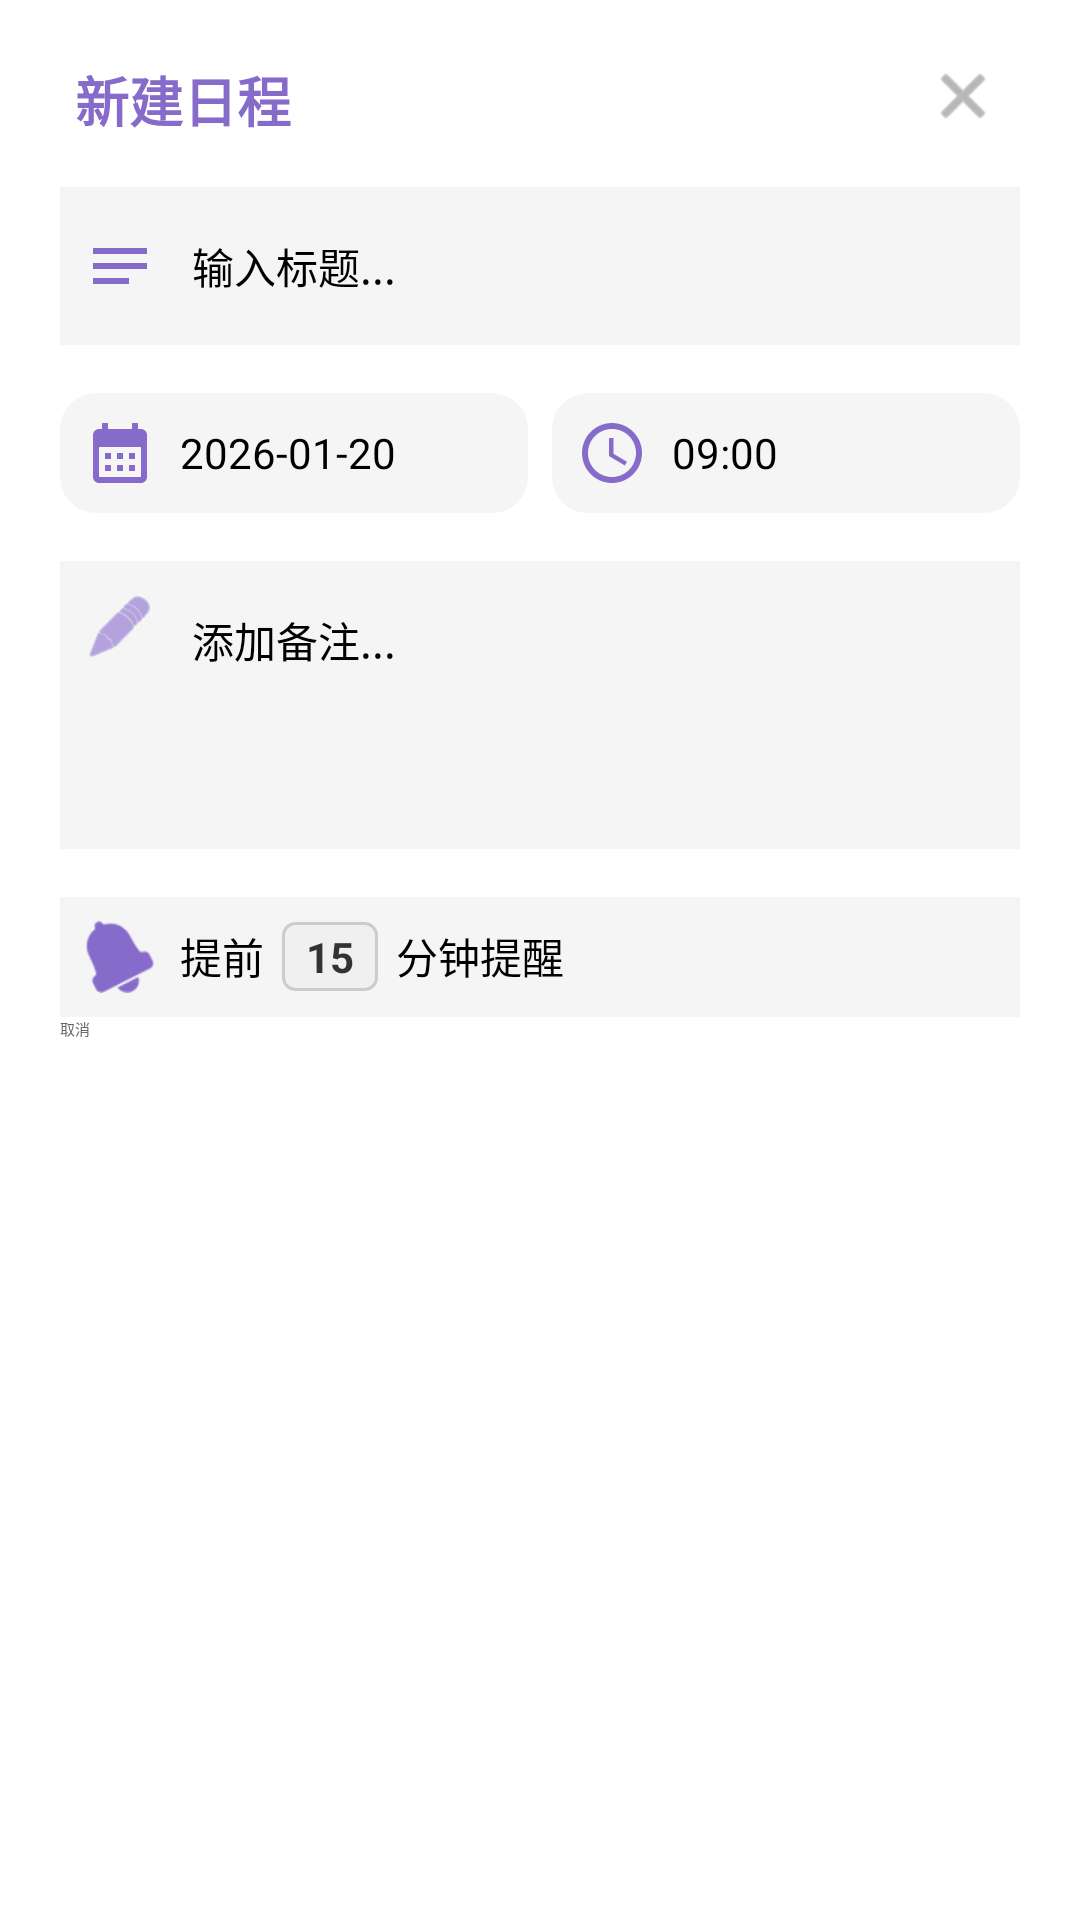

Point at icon controls on the screen. Image size 1080×1920, points as [x,y].
Calendar Icon: [120,453]
close clear cancel: [963,96]
edit: [119,626]
Reminder Icon: [120,957]
Time Icon: [612,453]
